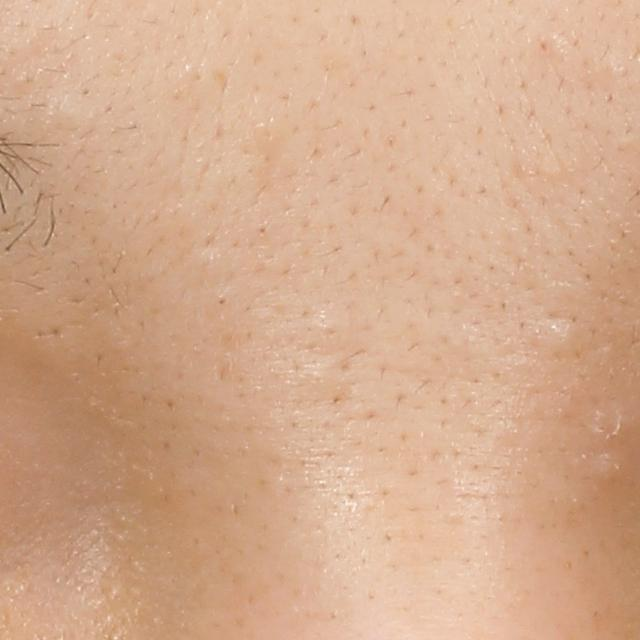comedo: (211, 288, 231, 309)
